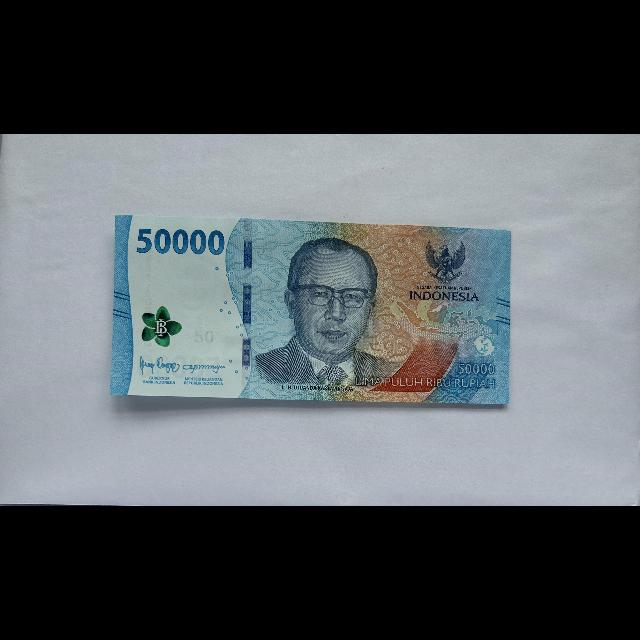Asli-50k: (104, 212, 519, 413)
Tinta-Asli-50k: (141, 305, 183, 348)
